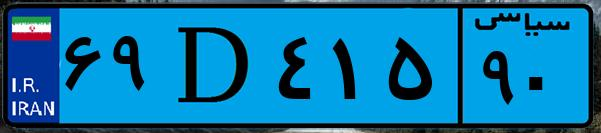0: (525, 38, 570, 115)
1: (330, 28, 385, 110)
4: (270, 28, 330, 110)
5: (385, 28, 445, 110)
6: (57, 26, 110, 100)
9: (475, 38, 525, 113), (110, 28, 158, 98)
D: (158, 12, 270, 120)
